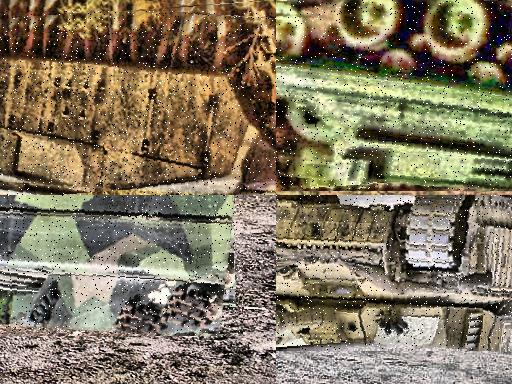tanks: (1, 12, 277, 196), (277, 1, 512, 191), (277, 196, 512, 351), (1, 196, 235, 336)
